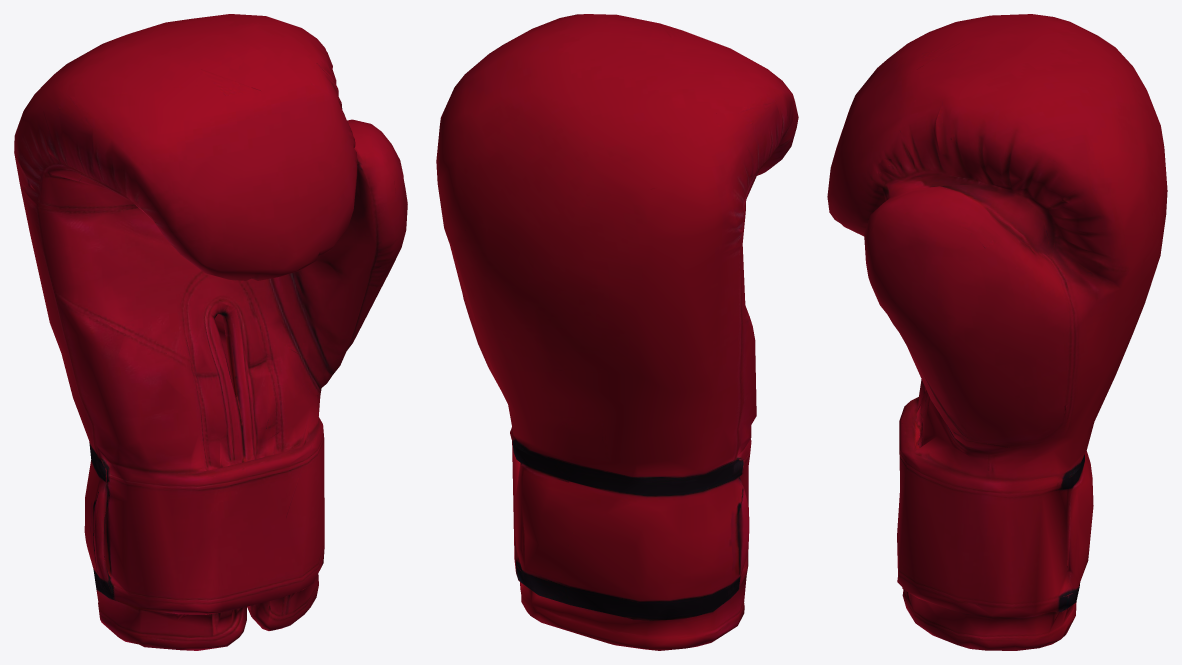
The model's file is red-boxing-glove.glb.
The picture shows the model from 3 angles, left to right: view 1: azimuth 30°, elevation 25°; view 2: azimuth 150°, elevation 25°; view 3: azimuth 270°, elevation 25°; orthographic projection.
Parts seen in each view (by area): view 1: Mesh1.0; view 2: Mesh1.0; view 3: Mesh1.0.
Boxes of the visible parts, x1,y1,x2,y2 form: Mesh1.0: [14, 14, 407, 650]; Mesh1.0: [436, 14, 798, 650]; Mesh1.0: [827, 14, 1167, 650].
Bounding box in the file's own units: 0.0345 × 0.06 × 0.0327.
Materials: 1 (1 with a texture image).
